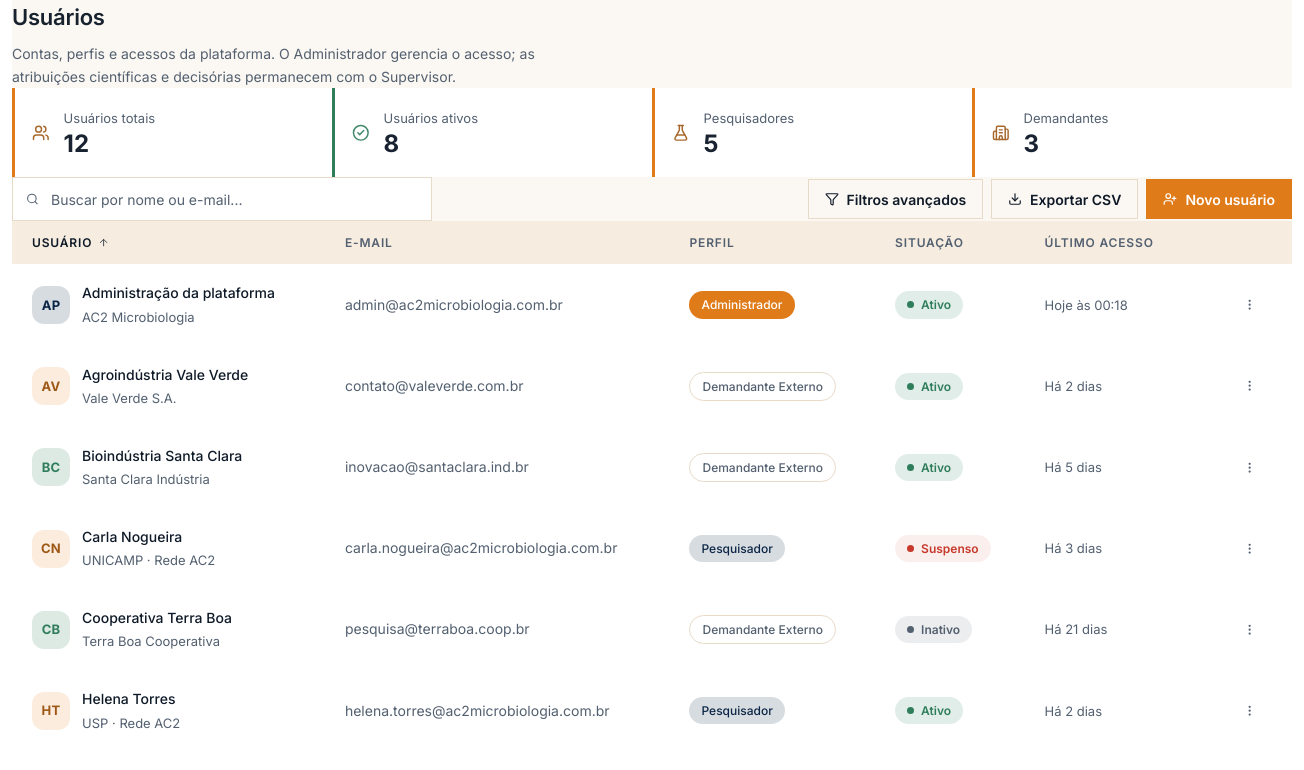
Scenario: UsersSection › ordena pela coluna escolhida e inverte no segundo clique
Click the button with aria-label "ordenar por usuário" at (71, 243), box [32,233,109,252]
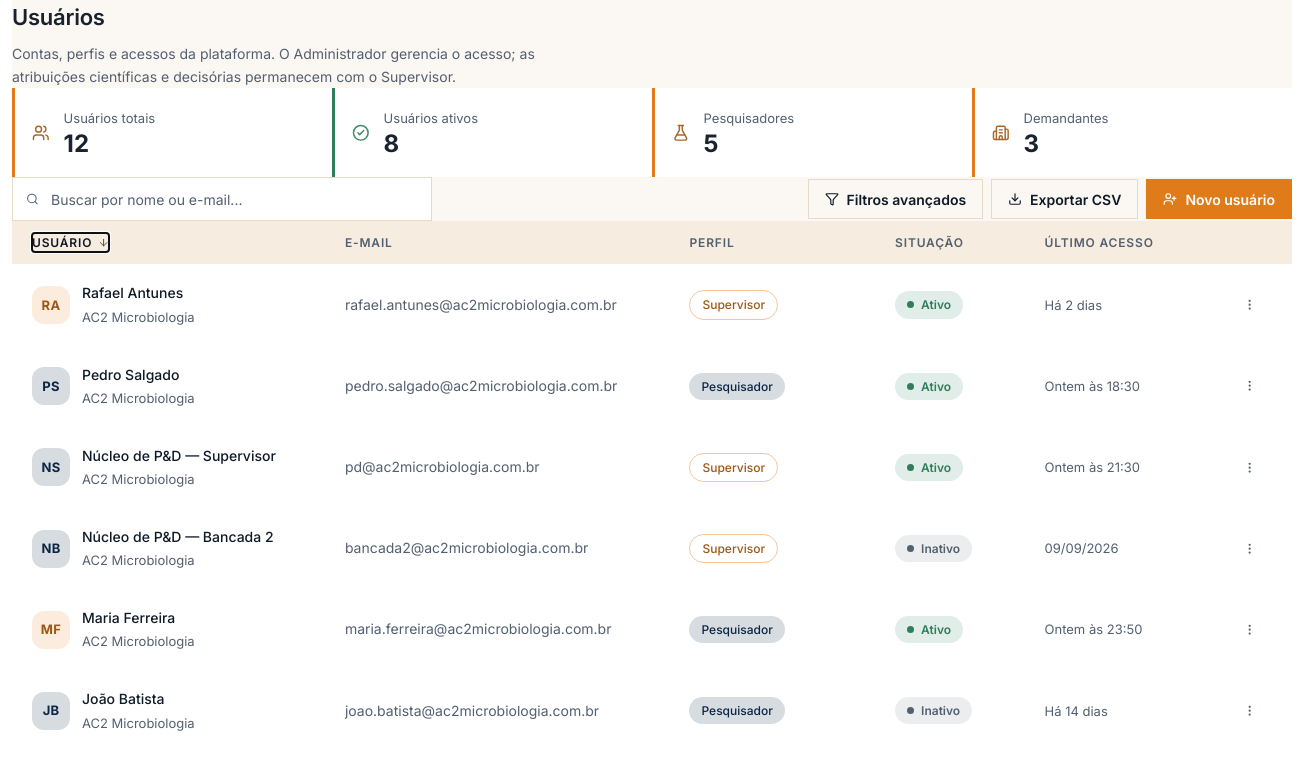
Expected: the text with class "user-cell__name" reads "Rafael Antunes", [82,284,183,301]
